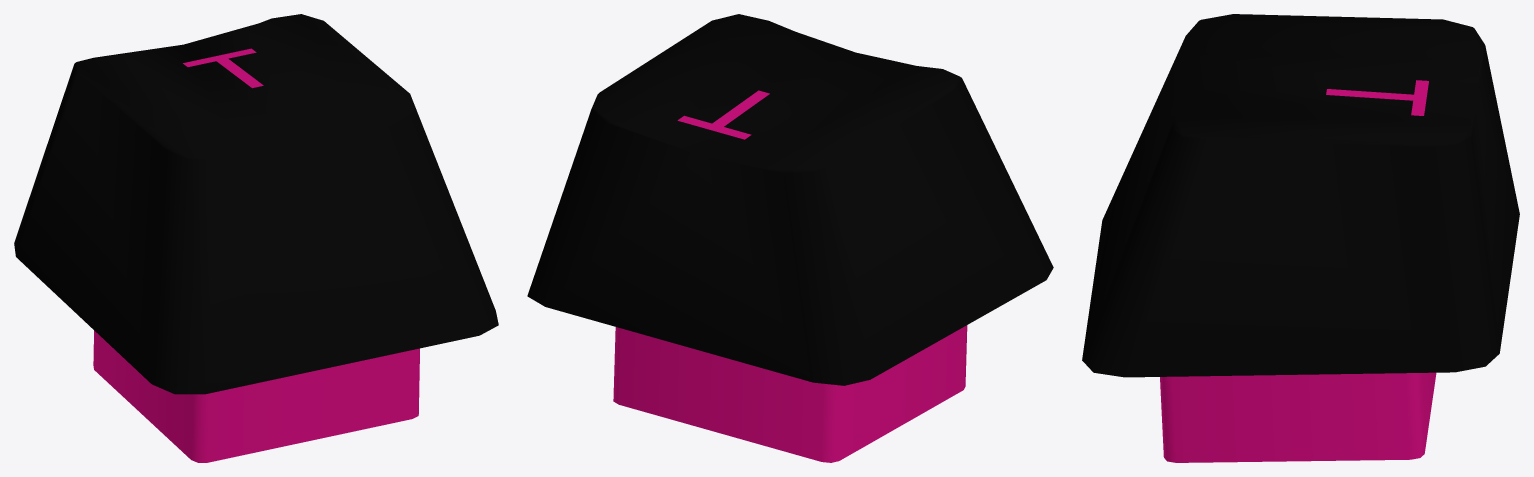
The model's file is t-CKXui2zs.glb.
3 views of the same model, side by side, from view 1: azimuth 30°, elevation 25°; view 2: azimuth 150°, elevation 25°; view 3: azimuth 270°, elevation 25° (orthographic). The views are drawn at different scales.
Parts seen in each view (by area): view 1: StudyShelf_537; view 2: StudyShelf_537; view 3: StudyShelf_537.
Boxes of the visible parts, x1,y1,x2,y2 form: StudyShelf_537: (14, 14, 498, 462); StudyShelf_537: (527, 14, 1053, 462); StudyShelf_537: (1082, 14, 1519, 462).
Bounding box in the file's own units: 4.35 × 3.62 × 4.35.
